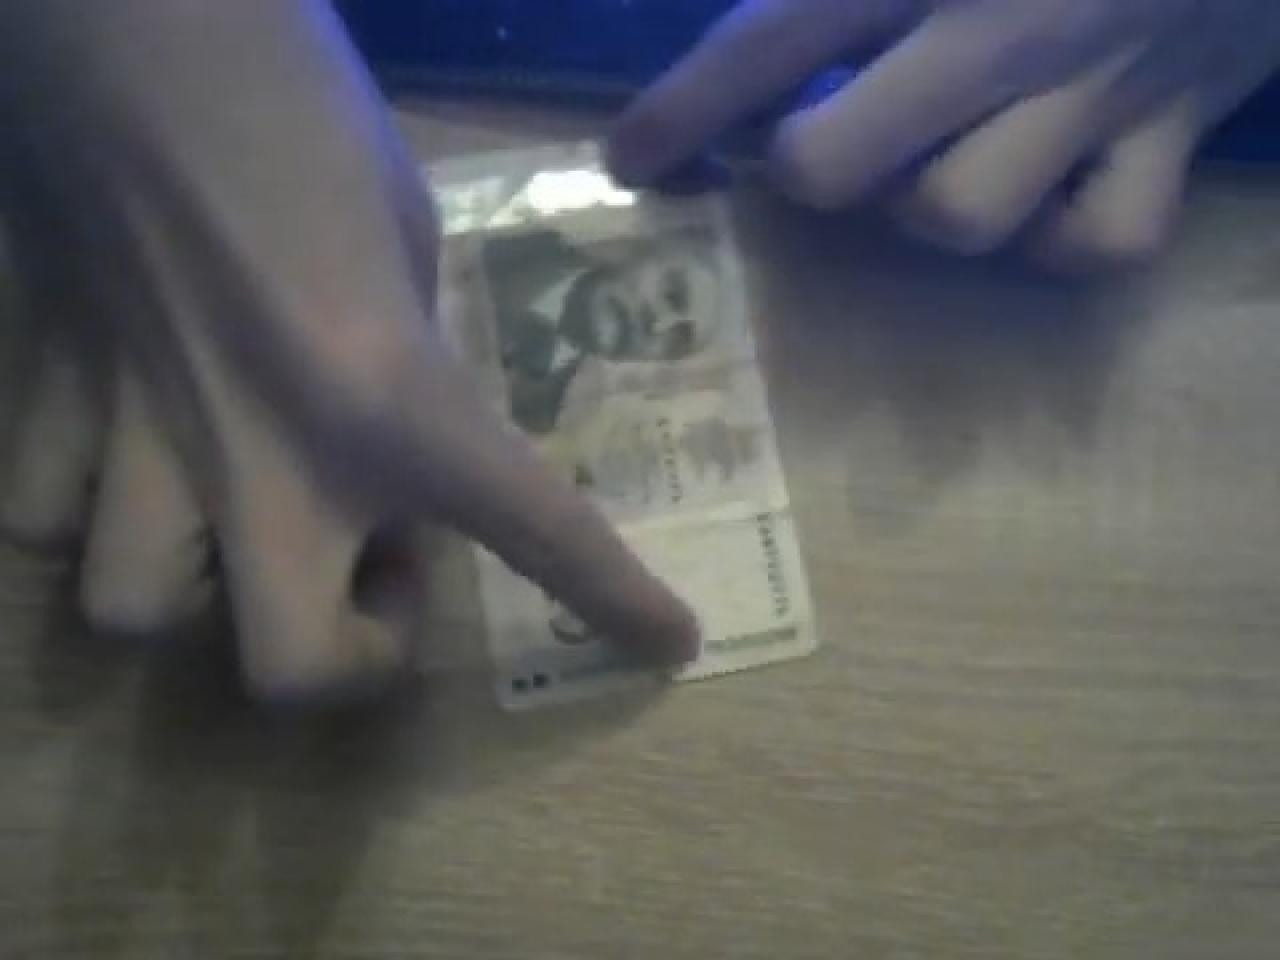10leva: (426, 141, 816, 680)
